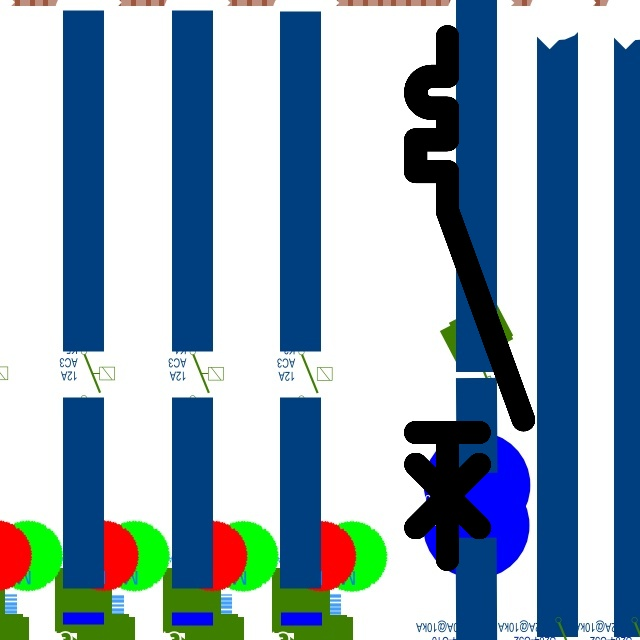interruptor_termomagnetico: (402, 23, 536, 573)
